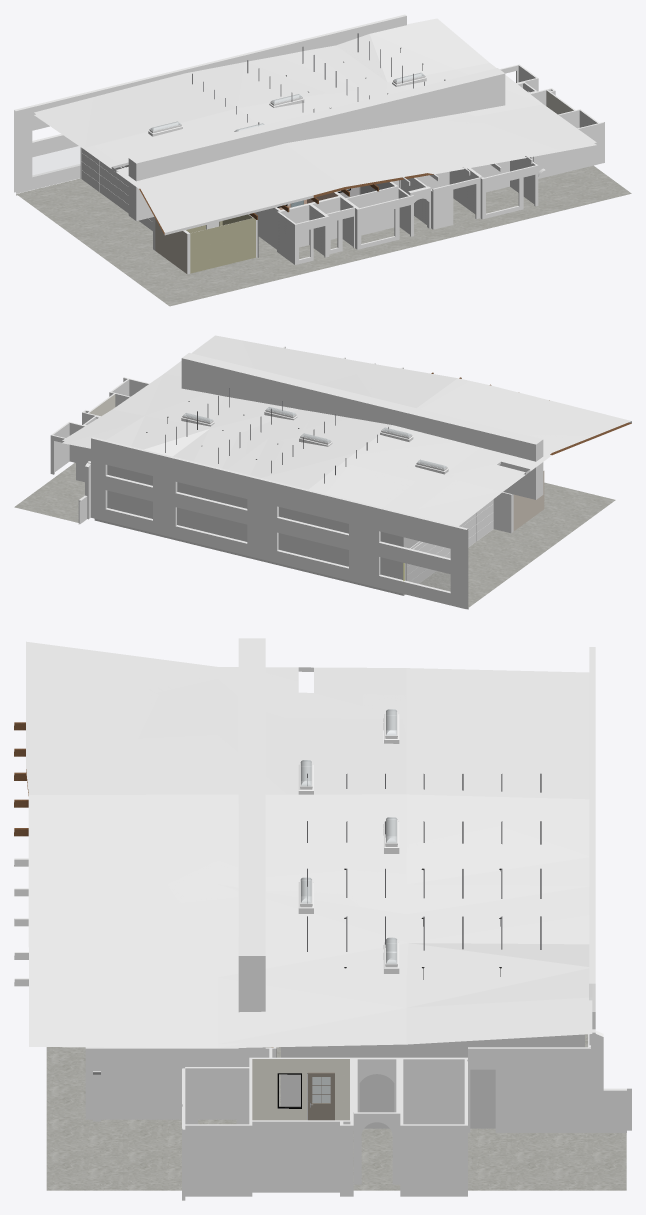
Rendered from large_hub_test_01.glb.
3 views of the same model, one above another, from view 1: azimuth 30°, elevation 25°; view 2: azimuth 150°, elevation 25°; view 3: azimuth 270°, elevation 25° (orthographic). The views are drawn at different scales.
Visible parts, largest first — view 1: ceiling, main_wall, main_floor, Mesh1294 Group8 Model, windows_wall, wall; view 2: ceiling, windows_wall, Mesh1294 Group8 Model, main_floor, available_moving_area, main_wall, wall; view 3: ceiling, main_wall, main_floor, windows_wall, wall, Mesh1294 Group8 Model, available_moving_area, Mesh2938 Deur_met_glas_1_1 G_2025_0618_Schoolhouse_com_dwg1 , Mesh2695 RS_Sidelight___GLAZING_G1_9061200__3D_1 G_2025_0618.
Part boxes in pixels (x1,y1,x2,y2): ceiling: [34, 18, 596, 235]; main_wall: [153, 88, 604, 274]; main_floor: [16, 165, 631, 306]; Mesh1294 Group8 Model: [128, 68, 505, 221]; windows_wall: [14, 14, 406, 193]; wall: [499, 64, 538, 92]; ceiling: [62, 335, 631, 526]; windows_wall: [78, 437, 468, 609]; Mesh1294 Group8 Model: [181, 353, 543, 499]; main_floor: [14, 463, 615, 609]; available_moving_area: [94, 465, 419, 595]; main_wall: [82, 377, 544, 533]; wall: [50, 416, 96, 482]; ceiling: [26, 641, 592, 1048]; main_wall: [85, 1047, 357, 1200]; main_floor: [46, 1034, 626, 1190]; windows_wall: [468, 647, 631, 1133]; wall: [353, 1057, 467, 1196]; Mesh1294 Group8 Model: [238, 638, 265, 1057]; available_moving_area: [281, 781, 584, 1128]; Mesh2938 Deur_met_glas_1_1 G_2025_0618_Schoolhouse_com_dwg1 : [308, 1072, 334, 1120]; Mesh2695 RS_Sidelight___GLAZING_G1_9061200__3D_1 G_2025_0618: [277, 1073, 307, 1108].
Size of the model in its own units: 1528 by 310 by 957.
Materials: 50 (15 with a texture image).
